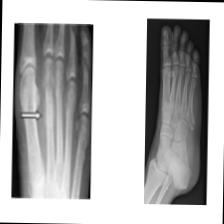stress-fracture: (14, 23, 90, 198), (146, 21, 206, 200)
